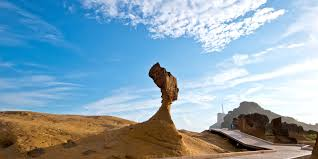yehliu: (145, 63, 185, 103)
